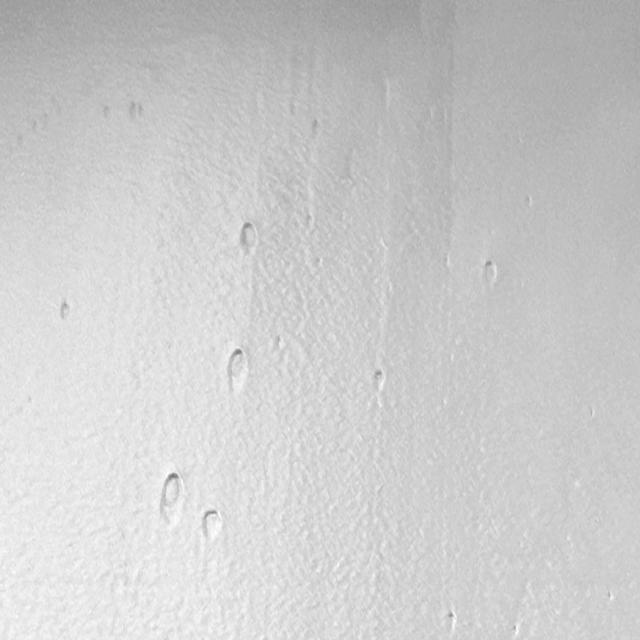pin holes: (158, 468, 188, 525), (223, 346, 250, 390), (199, 508, 224, 541), (238, 222, 261, 254), (481, 257, 502, 288), (440, 609, 461, 636), (125, 102, 146, 125), (370, 368, 388, 394), (57, 298, 75, 323), (310, 119, 325, 140), (100, 104, 114, 125), (303, 212, 315, 234), (507, 622, 522, 638), (522, 193, 534, 212), (604, 589, 618, 604), (272, 335, 285, 351)
